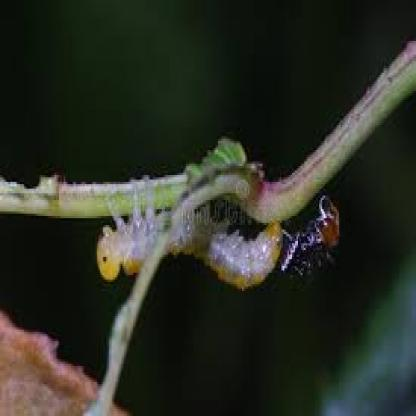sawfly: (92, 175, 282, 296), (214, 188, 343, 286)
